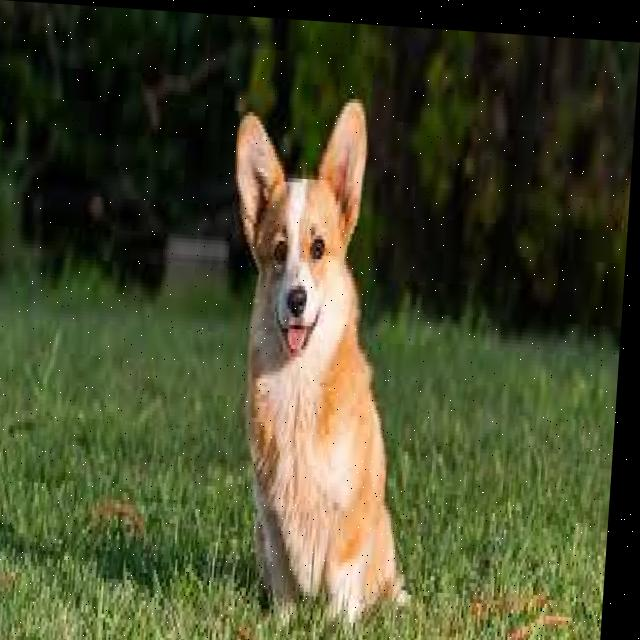CORGI: (209, 74, 446, 616)
